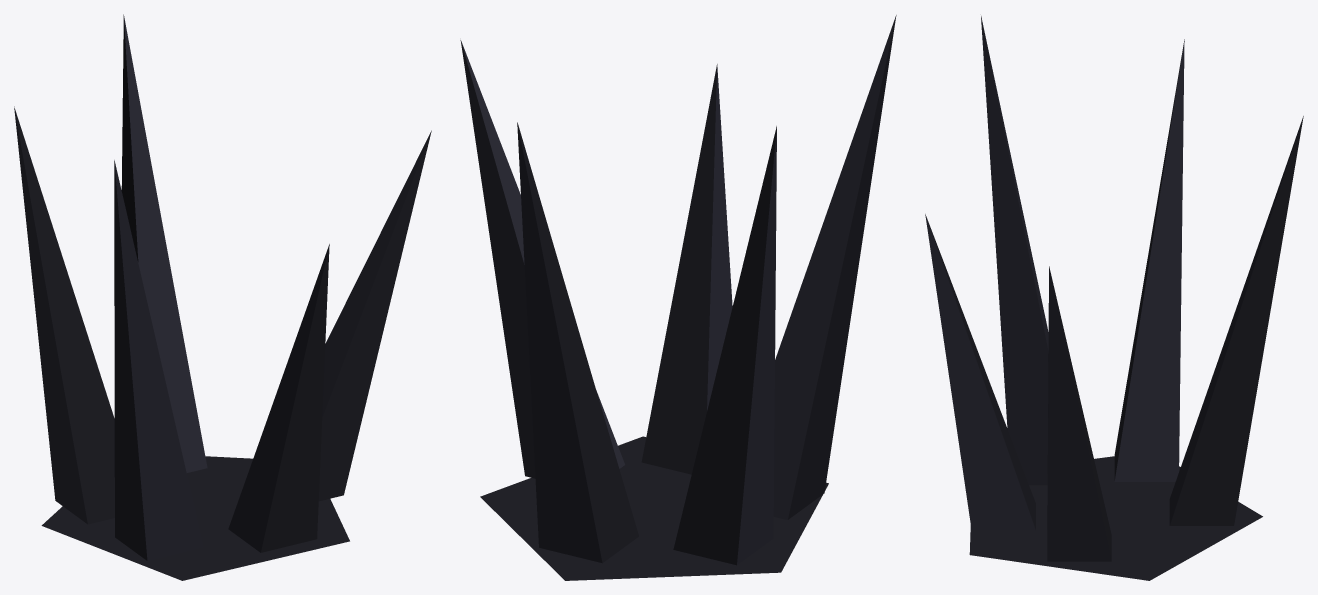
File: black-bush.glb
3 renders of one model, left to right at view 1: azimuth 30°, elevation 25°; view 2: azimuth 150°, elevation 25°; view 3: azimuth 270°, elevation 25°, orthographic. The views are drawn at different scales.
Visible parts, largest first — view 1: BlackBush; view 2: BlackBush; view 3: BlackBush.
Boxes of the visible parts, x1,y1,x2,y2 form: BlackBush: (14, 14, 431, 580); BlackBush: (460, 15, 896, 580); BlackBush: (925, 16, 1303, 580).
Bounding box in the file's own units: 0.3979 × 0.4716 × 0.375.
1 material, 1 textured.
